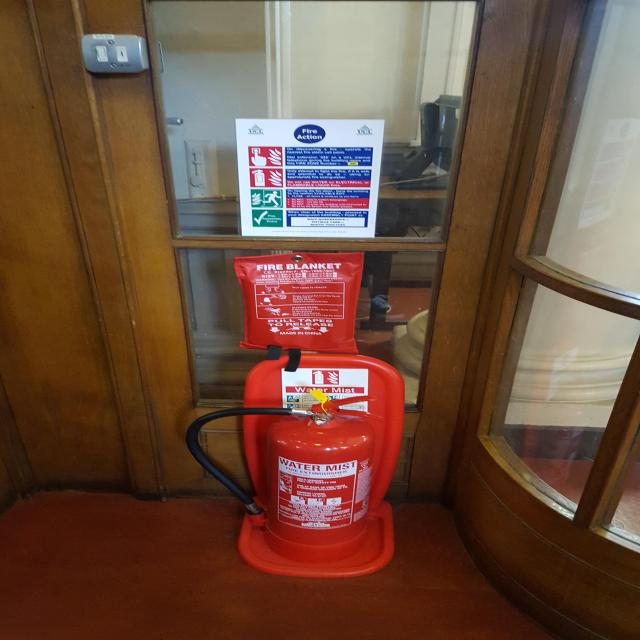fire_extinguisher: (177, 388, 393, 566)
